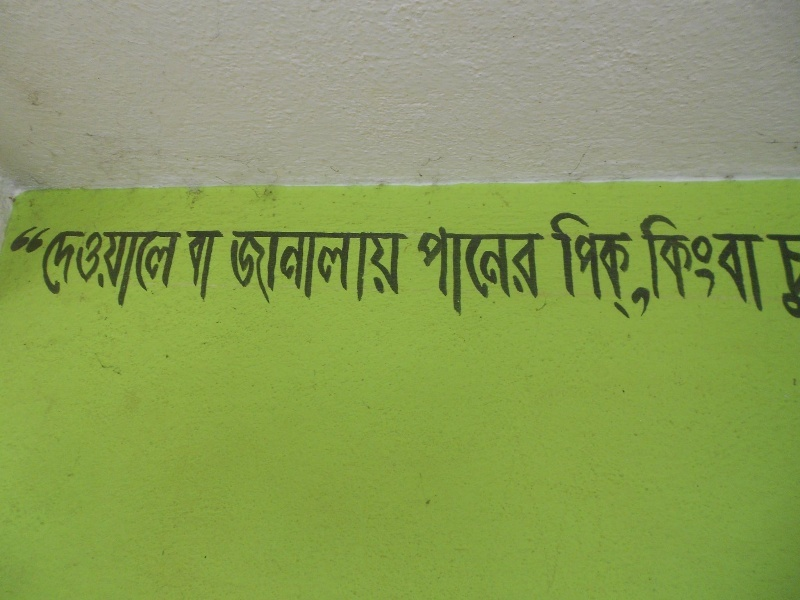text: (561, 211, 576, 322), (577, 211, 592, 322), (593, 211, 608, 322), (609, 211, 624, 322), (625, 211, 640, 322), (641, 211, 656, 316), (657, 211, 672, 316), (673, 211, 688, 316), (689, 211, 704, 316), (705, 211, 720, 316), (721, 211, 736, 316), (737, 211, 752, 316), (753, 211, 768, 316), (641, 211, 654, 322), (433, 224, 448, 318), (449, 224, 464, 318), (465, 224, 480, 318), (481, 224, 496, 318), (497, 224, 512, 318), (513, 224, 528, 318), (529, 224, 544, 318), (418, 224, 432, 318), (785, 233, 800, 318), (549, 211, 560, 322), (770, 233, 784, 318), (49, 230, 64, 305), (65, 230, 80, 305), (81, 230, 96, 305), (97, 230, 112, 305), (113, 230, 128, 305), (129, 230, 144, 305), (145, 230, 160, 305), (161, 230, 176, 305), (241, 231, 256, 306), (257, 231, 272, 306), (273, 231, 288, 306), (289, 231, 304, 306), (305, 231, 320, 306), (321, 231, 336, 306), (337, 231, 352, 306), (353, 231, 368, 306), (369, 231, 384, 306), (385, 231, 400, 306), (193, 231, 208, 303), (209, 231, 224, 303), (17, 213, 32, 261), (33, 213, 48, 261), (769, 211, 775, 316), (232, 231, 240, 306), (401, 231, 408, 306), (185, 231, 192, 303), (177, 230, 183, 305), (636, 211, 640, 316), (49, 213, 56, 261), (11, 213, 16, 261), (545, 224, 547, 318), (225, 231, 226, 303)
